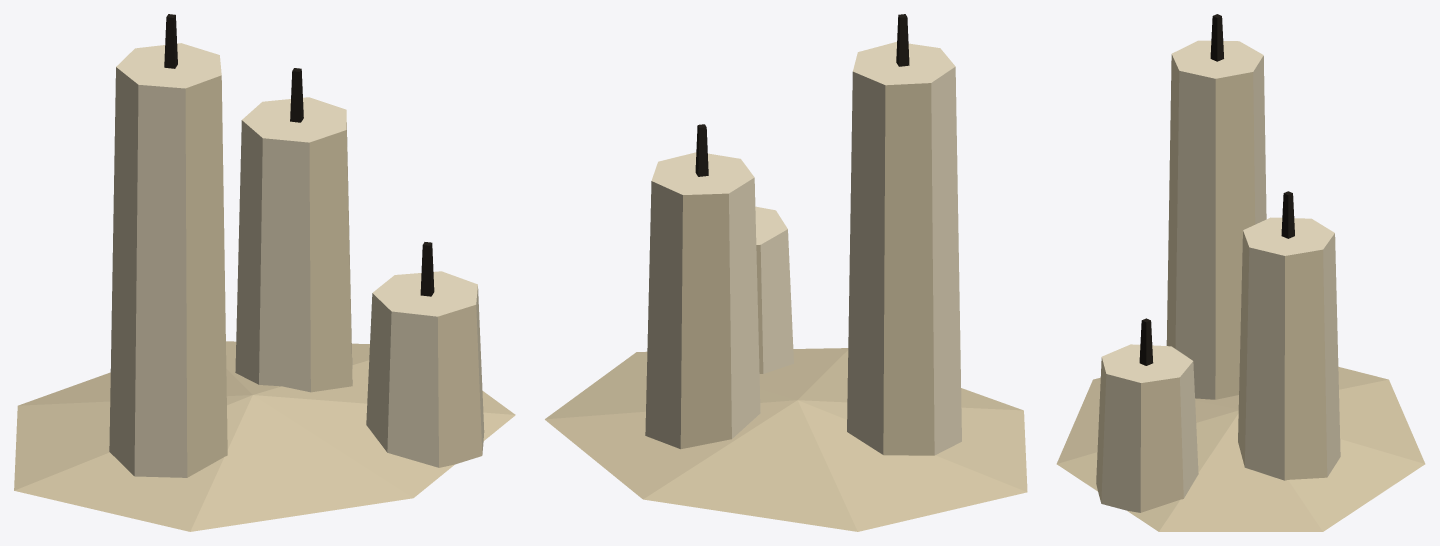
The model's file is candles.glb.
The picture shows the model from 3 angles, left to right: view 1: azimuth 30°, elevation 25°; view 2: azimuth 150°, elevation 25°; view 3: azimuth 270°, elevation 25°; orthographic projection. The views are drawn at different scales.
Visible parts, largest first — view 1: candles2; view 2: candles2; view 3: candles2.
Part boxes in pixels (box(x1,y1,x2,y2)): candles2: box(14, 14, 515, 531); candles2: box(545, 14, 1027, 531); candles2: box(1056, 14, 1425, 531).
Size of the model in its own units: 0.3802 by 0.36 by 0.312.
